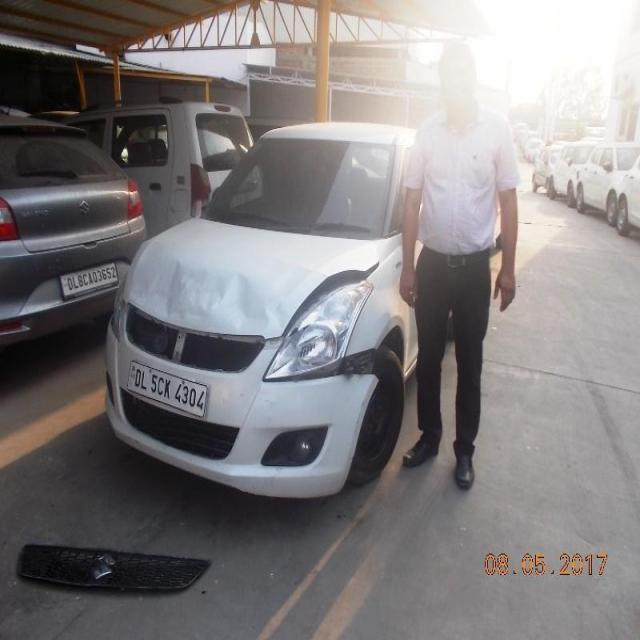damaged: (130, 259, 382, 338)
